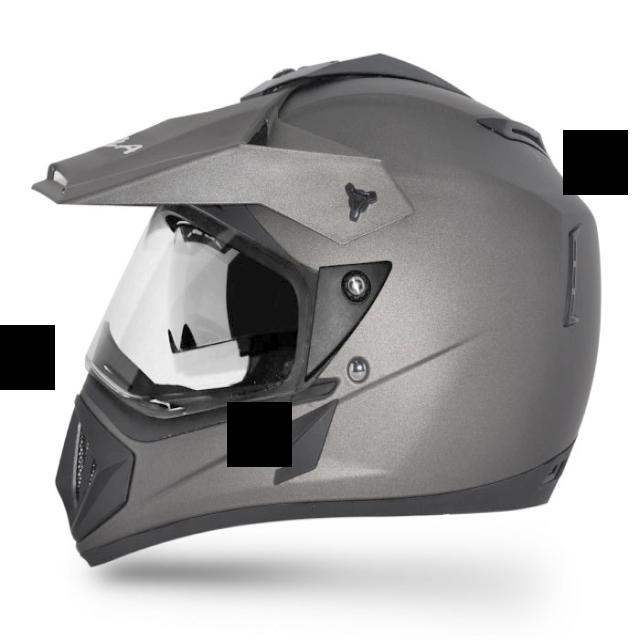Helmet: (34, 54, 600, 565)
